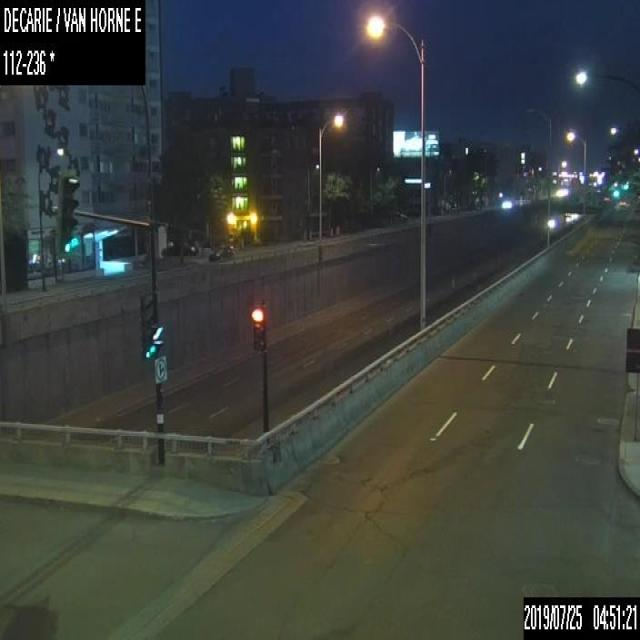vehicle: (165, 240, 197, 256), (207, 246, 231, 260), (618, 200, 625, 206)
